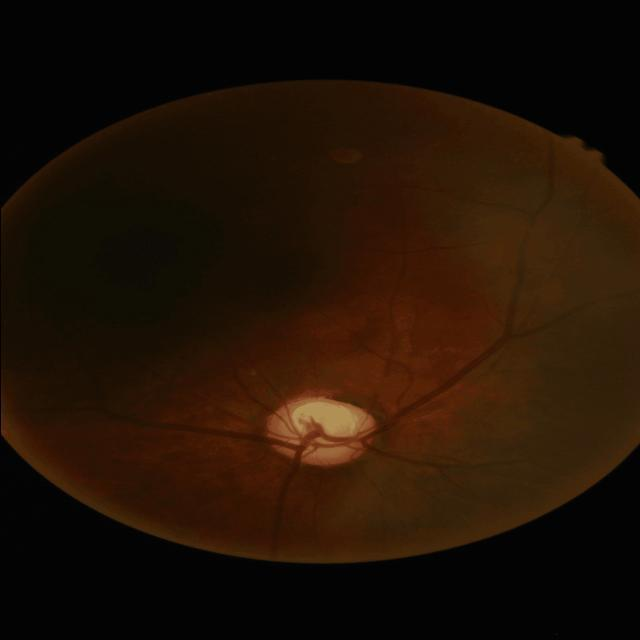cup: (292, 402, 360, 450)
disk: (264, 396, 376, 466)
